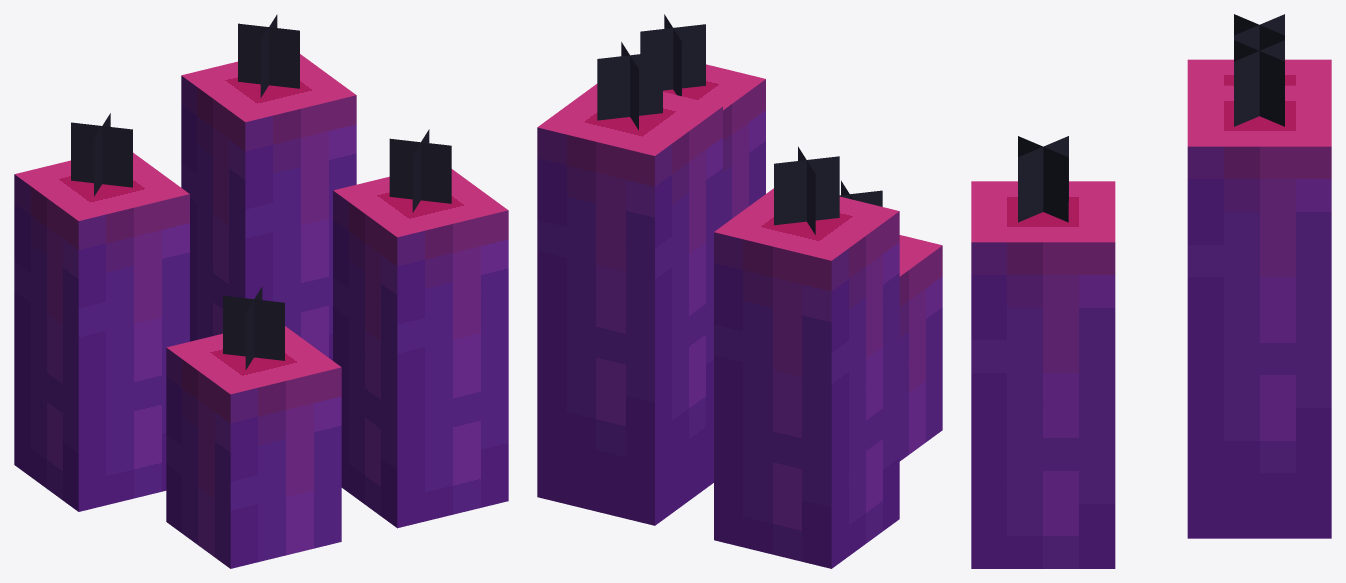
The model's file is block_purple_candle_four_candles_lit.gltf.
The picture shows the model from 3 angles, left to right: view 1: azimuth 30°, elevation 25°; view 2: azimuth 150°, elevation 25°; view 3: azimuth 270°, elevation 25°; orthographic projection. The views are drawn at different scales.
Visible parts, largest first — view 1: cube (×8); view 2: cube (×10); view 3: cube (×9).
Boxes of the visible parts, bbox=[...] form: cube (×8): bbox=[14, 23, 508, 568]; cube (×10): bbox=[537, 14, 942, 568]; cube (×9): bbox=[971, 14, 1331, 568].
Bounding box in the file's own units: 0.375 × 0.4375 × 0.3125.
1 material, 1 textured.
